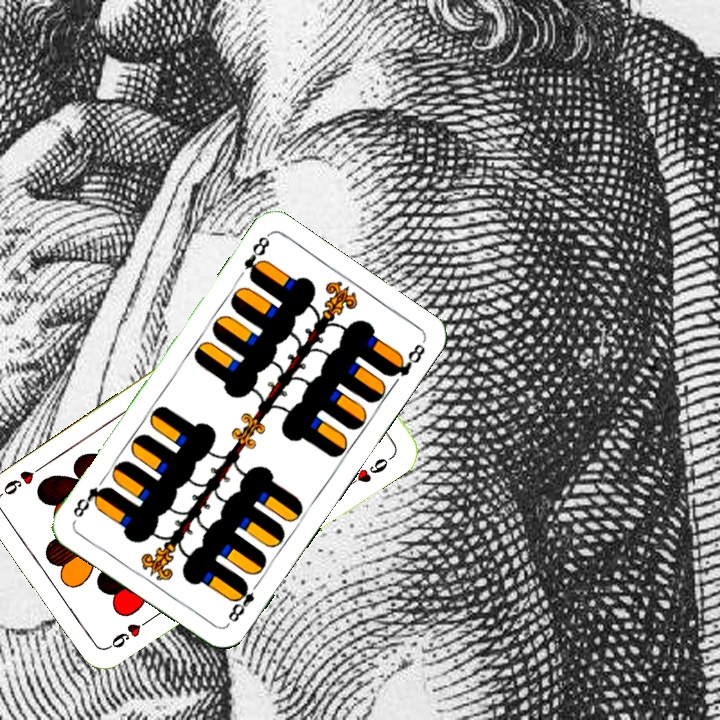E8: (223, 576, 263, 628), (239, 231, 273, 284)
H9: (104, 613, 156, 652)
